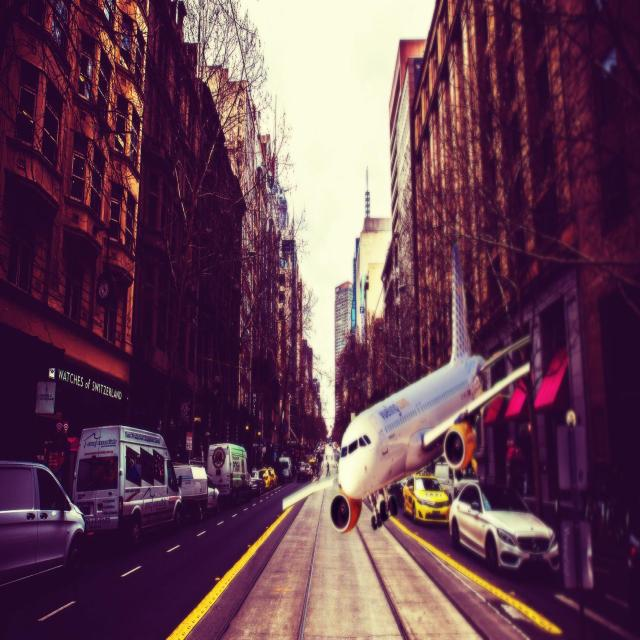airplane: (281, 242, 531, 533)
